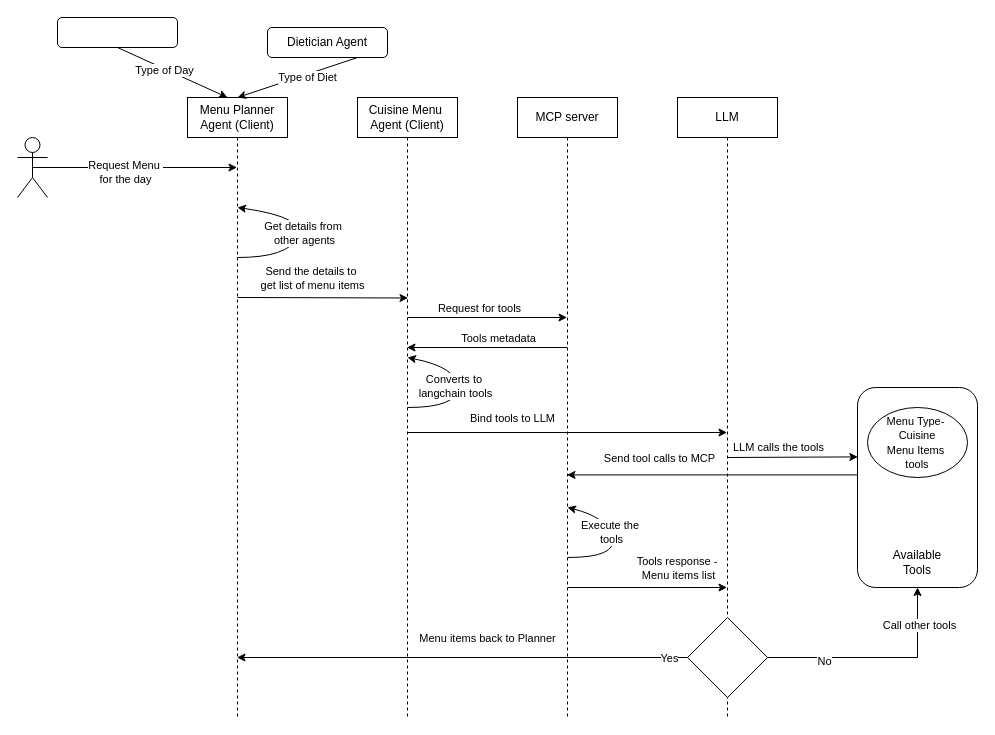
Some shapes in this 995 by 735 pixel diagram are drawn without their labels. Each missing label, with the centre of its shape:
"Actor" belongs at point (32, 167).
"Calendar Agent" belongs at point (117, 32).
"Decide if response is complete" belongs at point (727, 657).
